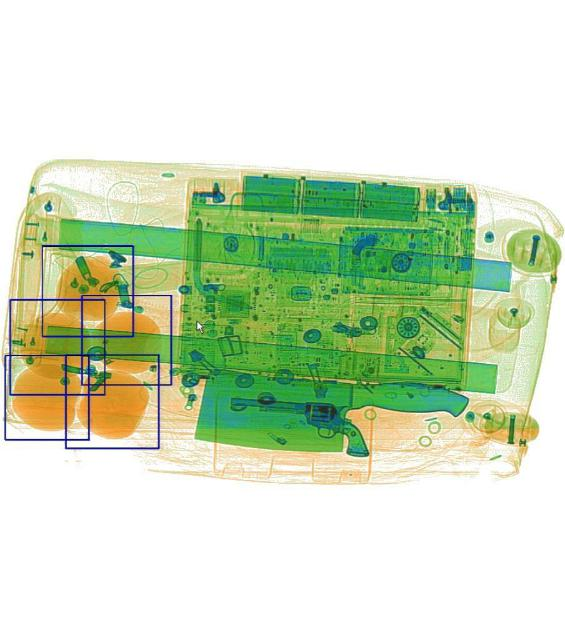Gun: (225, 393, 370, 455)
Knife: (193, 364, 466, 466)
